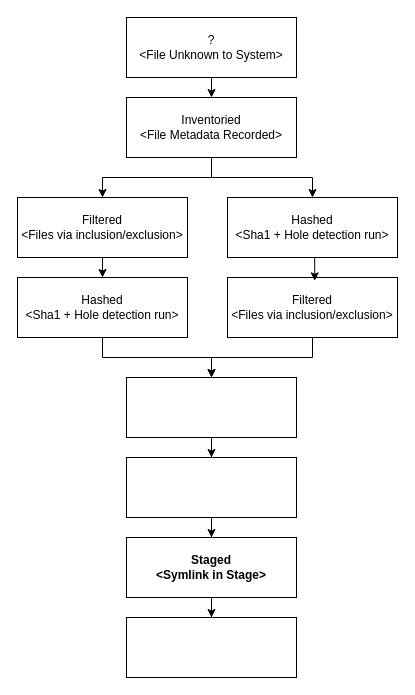
This 415x695 diagram has some shape labels left out. Each missing label, with the box of its shape:
Archived <Successfully added to tar>: (126, 616, 296, 678)
Deduplicated <Hash results verified>: (126, 376, 296, 438)
Sparsified <Holes Punched>: (126, 456, 296, 518)
